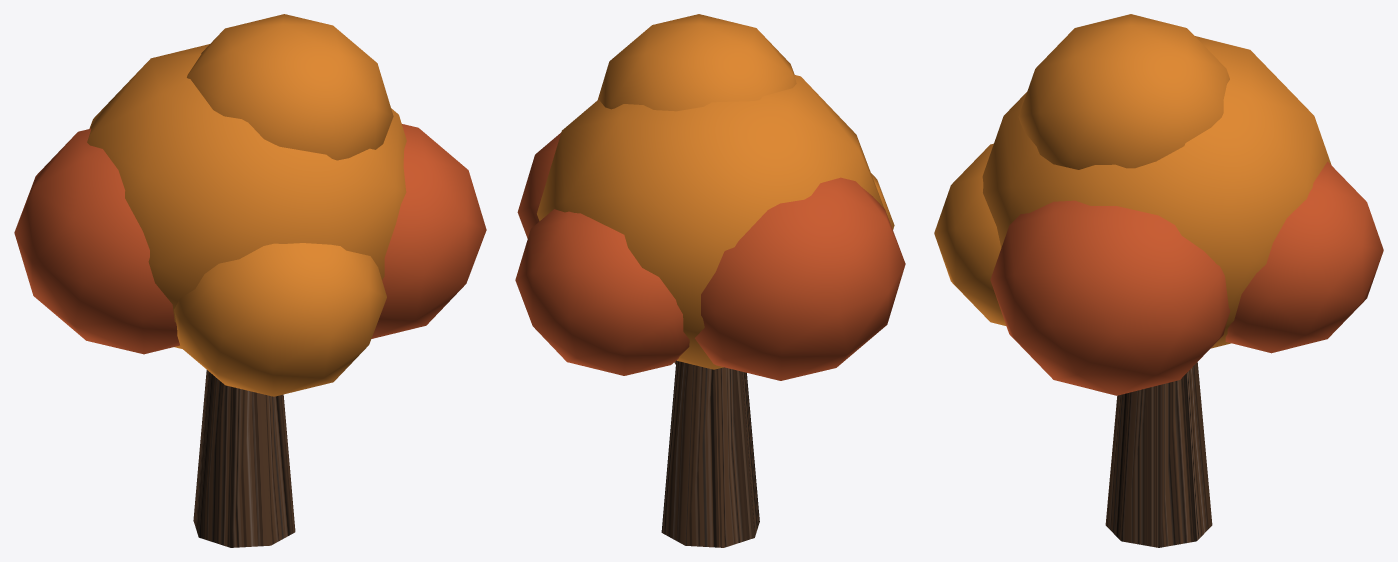
Rendered from autumn.glb.
The picture shows the model from 3 angles, left to right: view 1: azimuth 30°, elevation 25°; view 2: azimuth 150°, elevation 25°; view 3: azimuth 270°, elevation 25°; orthographic projection. The views are drawn at different scales.
Parts seen in each view (by area): view 1: autumn; view 2: autumn; view 3: autumn.
Part boxes in pixels (bbox=[...]): autumn: bbox=[14, 14, 486, 547]; autumn: bbox=[515, 14, 905, 547]; autumn: bbox=[934, 14, 1383, 547].
Size of the model in its own units: 3.35 by 4.02 by 3.2.
3 materials, 1 textured.
